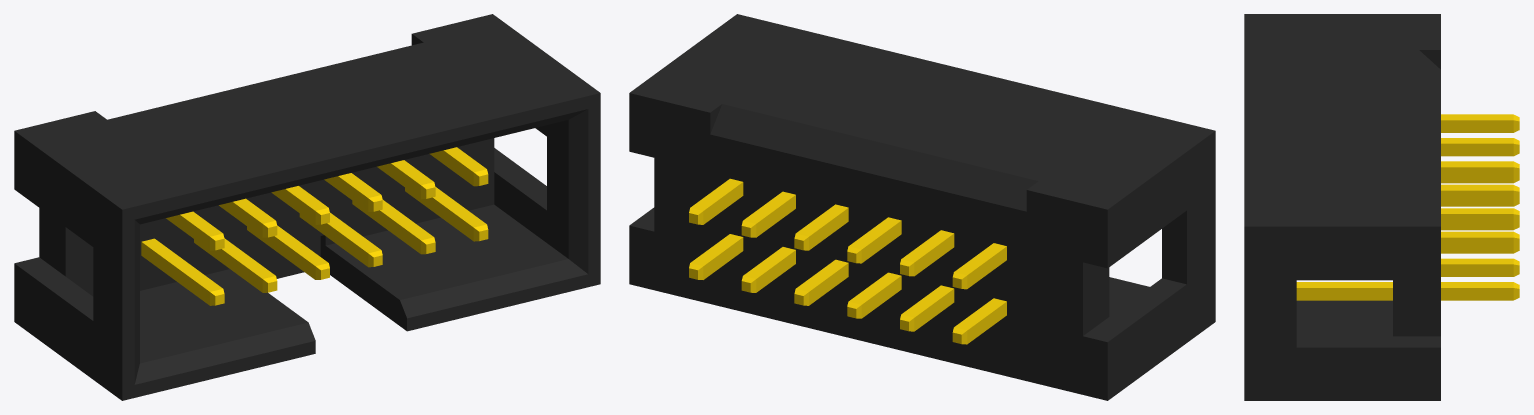
File: DS1013-12S (IDC-12MS CONNFLY).obj
3 views of the same model, side by side, from view 1: azimuth 30°, elevation 25°; view 2: azimuth 150°, elevation 25°; view 3: azimuth 270°, elevation 25° (orthographic). The views are drawn at different scales.
Parts seen in each view (by area): view 1: DS1013-12S_(IDC-12MS_CONNFLY); view 2: DS1013-12S_(IDC-12MS_CONNFLY); view 3: DS1013-12S_(IDC-12MS_CONNFLY).
Boxes of the visible parts, bbox=[...] form: DS1013-12S_(IDC-12MS_CONNFLY): bbox=[14, 14, 600, 400]; DS1013-12S_(IDC-12MS_CONNFLY): bbox=[629, 14, 1215, 400]; DS1013-12S_(IDC-12MS_CONNFLY): bbox=[1244, 14, 1519, 400].
Bounding box in the file's own units: 0.0251 × 0.00968 × 0.0137.
